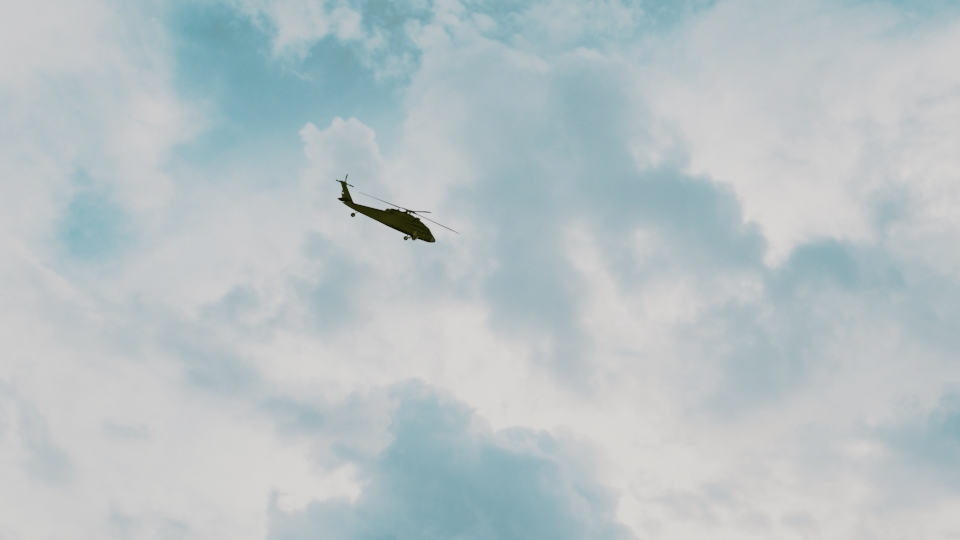heli: (334, 174, 438, 247)
